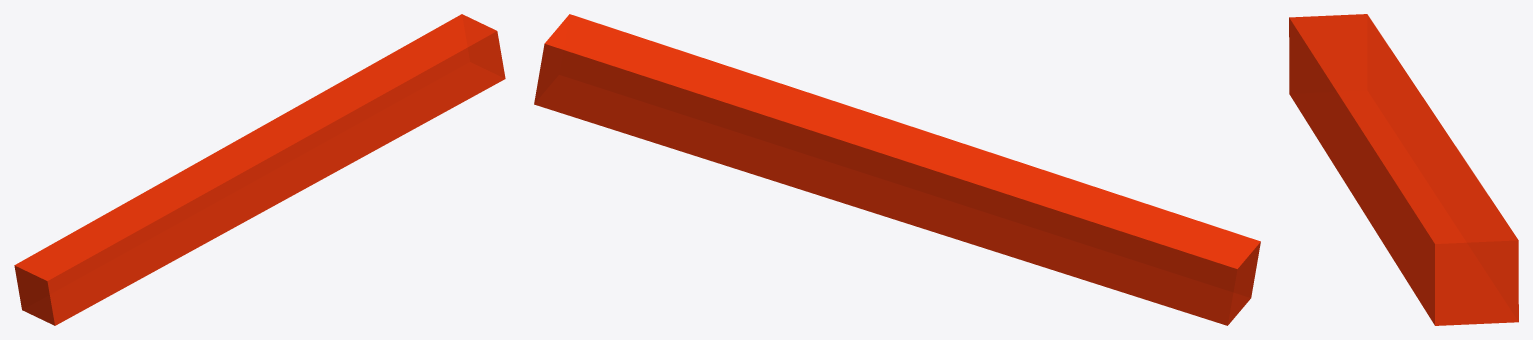
Rendered from Event_421127236_EErechit_33.fbx.
The picture shows the model from 3 angles, left to right: view 1: azimuth 30°, elevation 25°; view 2: azimuth 150°, elevation 25°; view 3: azimuth 270°, elevation 25°; orthographic projection. The views are drawn at different scales.
Visible parts, largest first — view 1: Model; view 2: Model; view 3: Model.
Part boxes in pixels (left/top/right/bottom): Model: left=14, top=14, right=505, bottom=325; Model: left=534, top=14, right=1260, bottom=325; Model: left=1289, top=14, right=1518, bottom=325.
Bounding box in the file's own units: 0.823 × 0.2166 × 0.2104.
